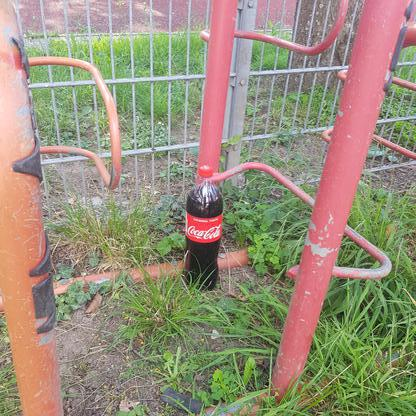coca-cola: (182, 164, 225, 297)
